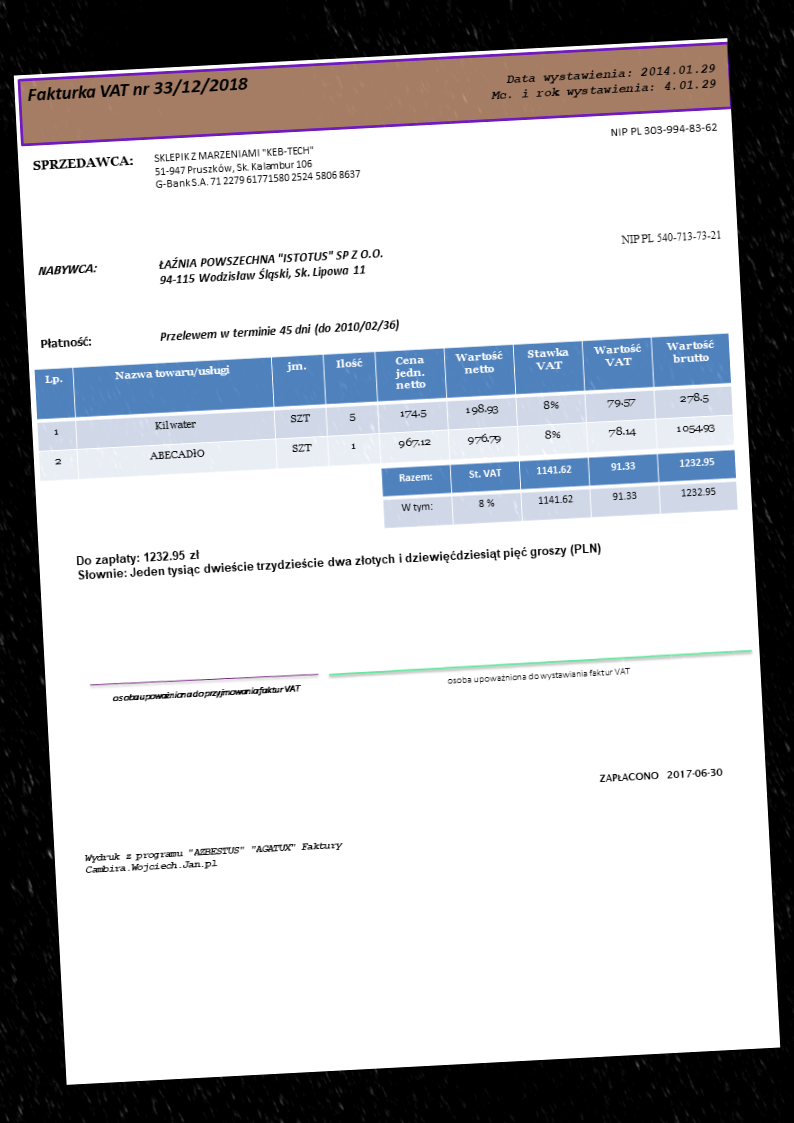Table: (32, 330, 735, 481), (379, 448, 739, 530)
TextBox: (73, 525, 604, 586), (151, 138, 363, 193), (82, 836, 347, 878), (486, 59, 719, 105), (155, 244, 387, 289), (23, 70, 251, 107), (157, 317, 401, 345), (109, 681, 301, 706), (443, 664, 634, 687), (596, 764, 726, 787), (29, 151, 134, 175), (607, 118, 720, 140), (617, 226, 725, 248), (34, 260, 98, 280), (36, 333, 94, 352)
